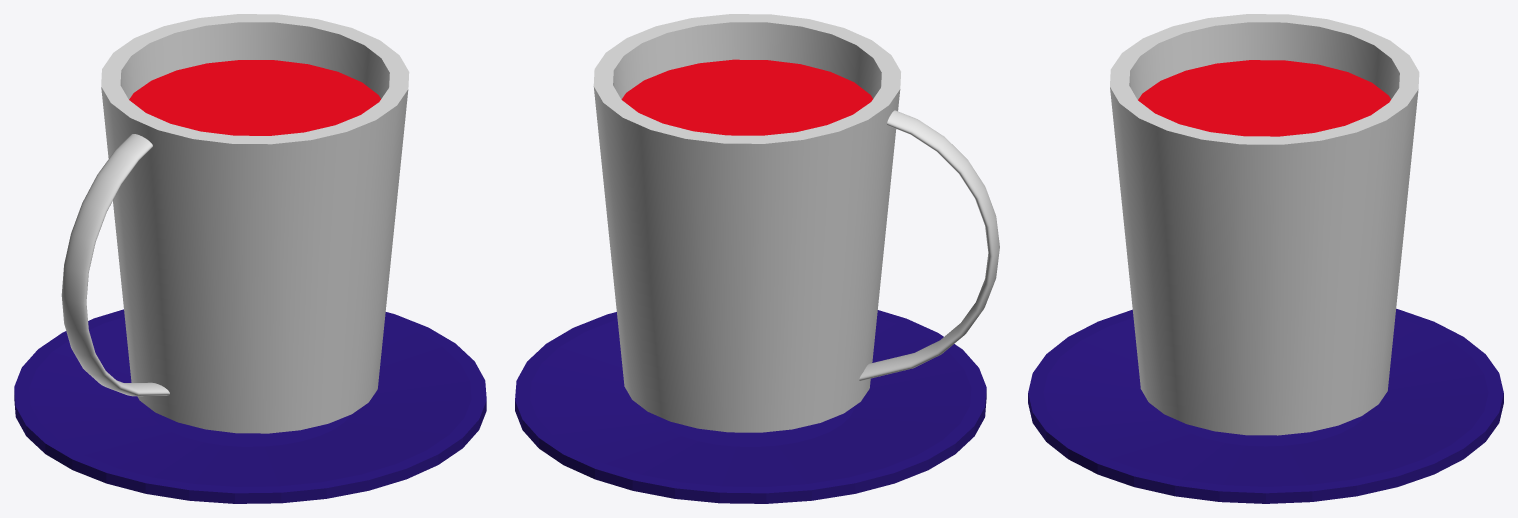
File: Jus Tomat.fbx
3 renders of one model, left to right at view 1: azimuth 30°, elevation 25°; view 2: azimuth 150°, elevation 25°; view 3: azimuth 270°, elevation 25°, orthographic.
Visible parts, largest first — view 1: Jus Jambu, Cylinder, Cylinder.001; view 2: Jus Jambu, Cylinder, Cylinder.001; view 3: Jus Jambu, Cylinder, Cylinder.001.
Boxes of the visible parts, <box> form: Jus Jambu: <box>61,14,409,433</box>; Cylinder: <box>14,309,486,503</box>; Cylinder.001: <box>129,60,380,135</box>; Jus Jambu: <box>593,14,999,432</box>; Cylinder: <box>515,310,986,503</box>; Cylinder.001: <box>621,59,872,135</box>; Jus Jambu: <box>1110,14,1419,435</box>; Cylinder: <box>1028,309,1503,503</box>; Cylinder.001: <box>1138,60,1390,136</box>.
Bounding box in the file's own units: 5742 × 4307 × 5589.
